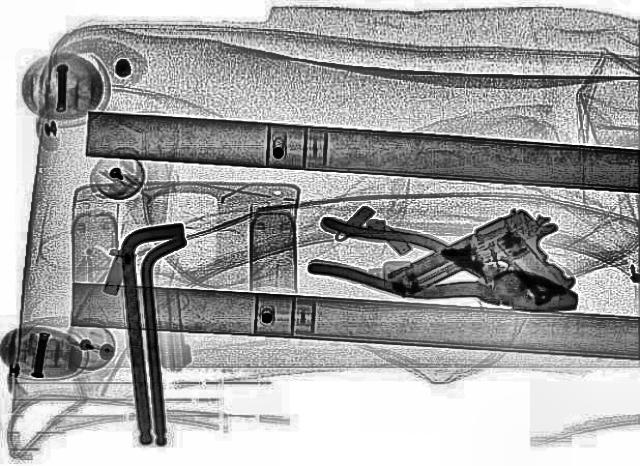Gun: (377, 199, 606, 341)
Pliers: (294, 211, 594, 331)
